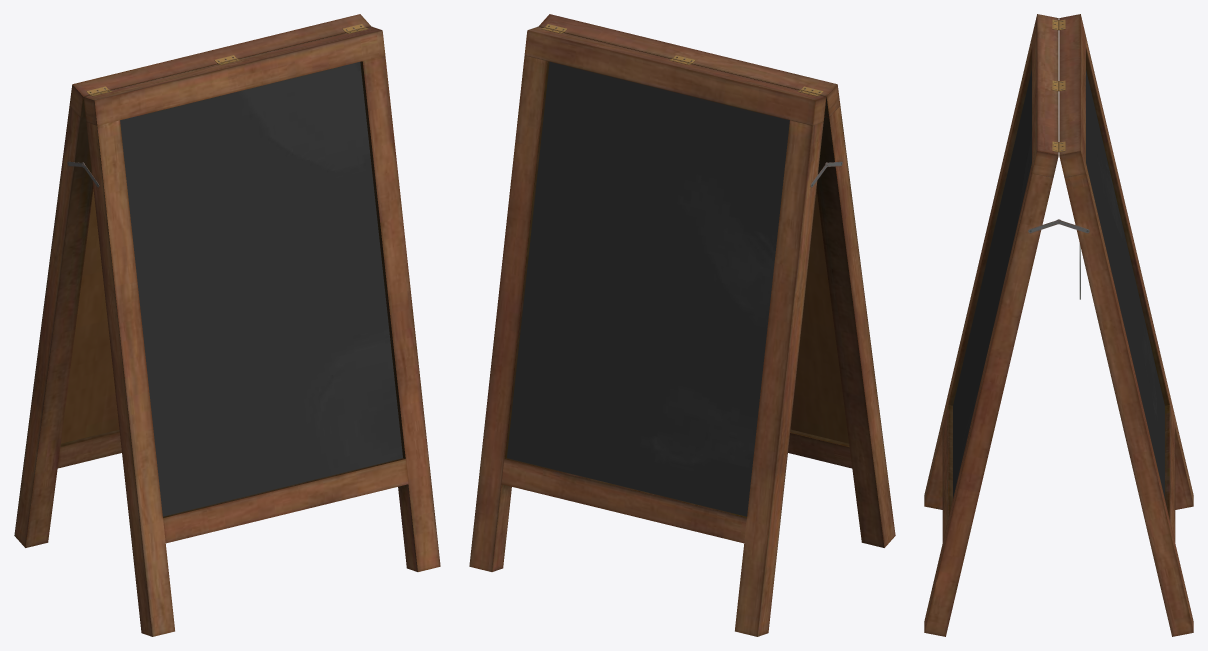
The model's file is noticeboard.glb.
3 renders of one model, left to right at view 1: azimuth 30°, elevation 25°; view 2: azimuth 150°, elevation 25°; view 3: azimuth 270°, elevation 25°, orthographic. The views are drawn at different scales.
Parts seen in each view (by area): view 1: standing_chalkboard_01.001; view 2: standing_chalkboard_01.001; view 3: standing_chalkboard_01.001.
Boxes of the visible parts, left/top/right/bottom form: standing_chalkboard_01.001: left=14, top=14, right=440, bottom=636; standing_chalkboard_01.001: left=469, top=14, right=895, bottom=636; standing_chalkboard_01.001: left=924, top=14, right=1193, bottom=636.
Size of the model in its own units: 0.9195 by 1.51 by 0.7587.
3 materials, 2 textured.
